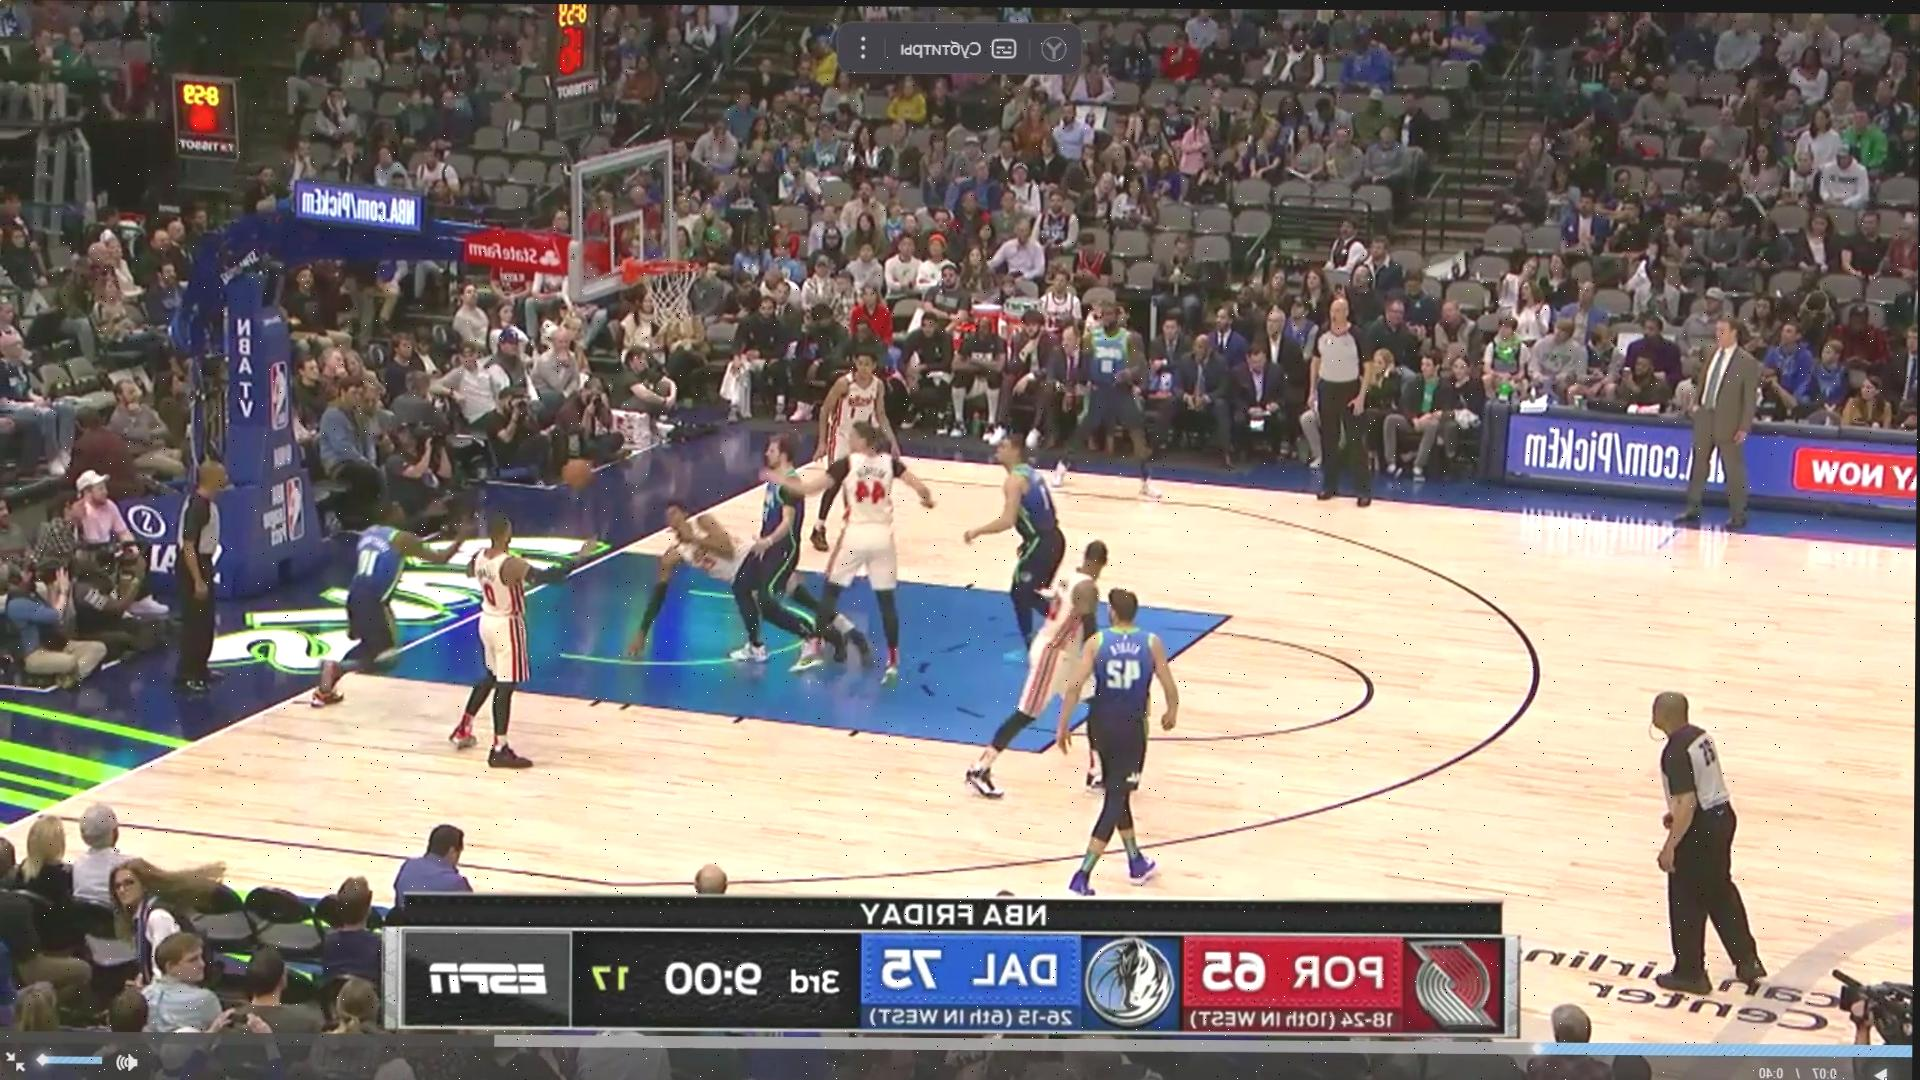foul: (625, 429, 823, 674)
